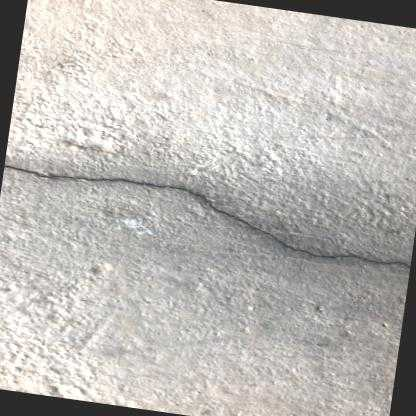crack: (4, 164, 410, 266)
